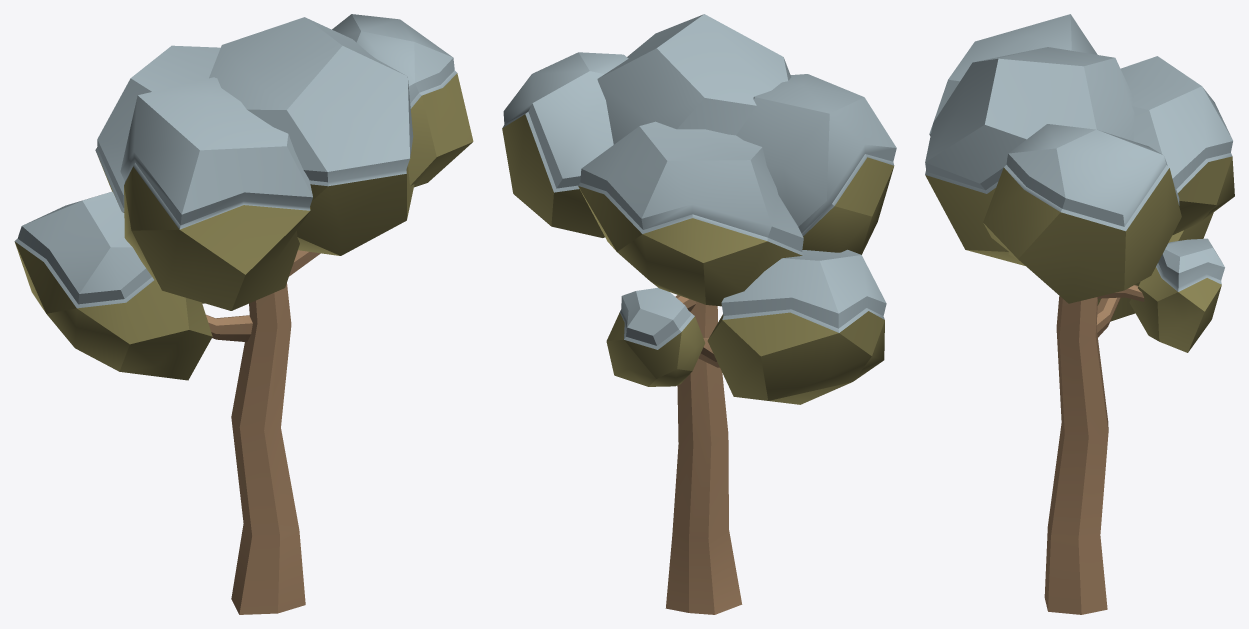
File: Geo_TreeGreen.fbx
3 views of the same model, side by side, from view 1: azimuth 30°, elevation 25°; view 2: azimuth 150°, elevation 25°; view 3: azimuth 270°, elevation 25° (orthographic). The views are drawn at different scales.
Parts seen in each view (by area): view 1: AutumnTreeGreen_Mesh; view 2: AutumnTreeGreen_Mesh; view 3: AutumnTreeGreen_Mesh.
Part boxes in pixels (left/top/right/bottom): AutumnTreeGreen_Mesh: left=14, top=14, right=473, bottom=614; AutumnTreeGreen_Mesh: left=502, top=14, right=896, bottom=614; AutumnTreeGreen_Mesh: left=925, top=14, right=1234, bottom=614.
Size of the model in its own units: 400 by 575 by 289.
